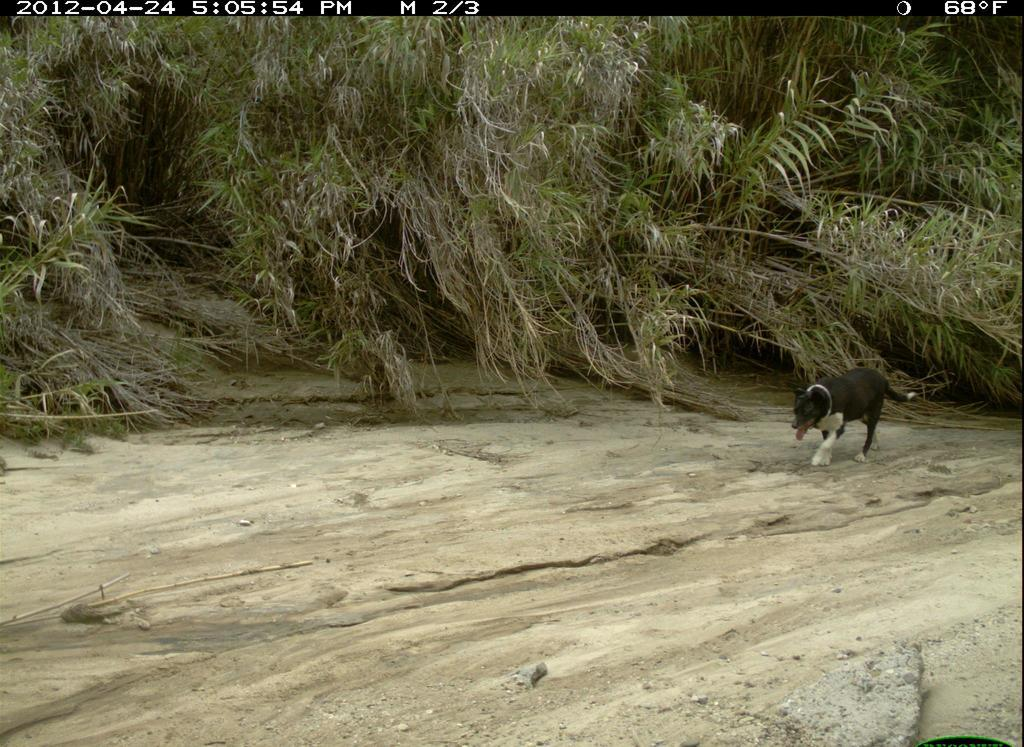dog: (780, 367, 922, 482)
